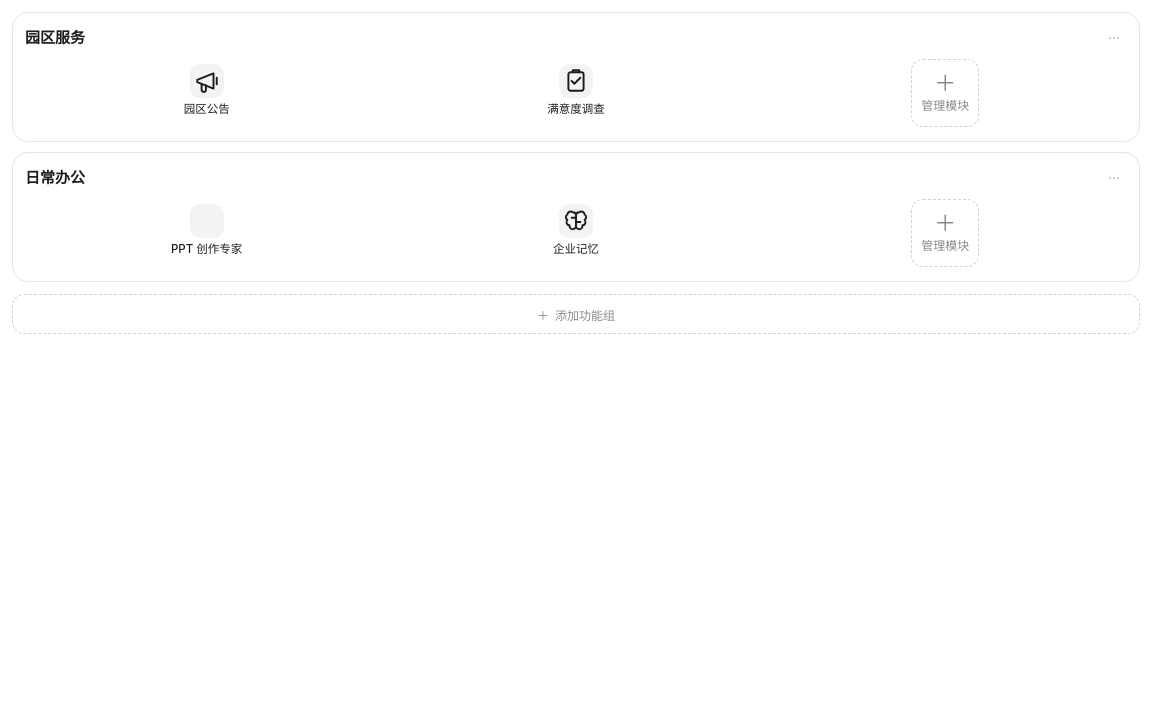
ModuleWorkspace › invalidates stale undo after another layout edit
Click the button named "功能组菜单：园区服务". click: x=1114, y=38
box: top-left (1101, 25), bottom-right (1127, 51)
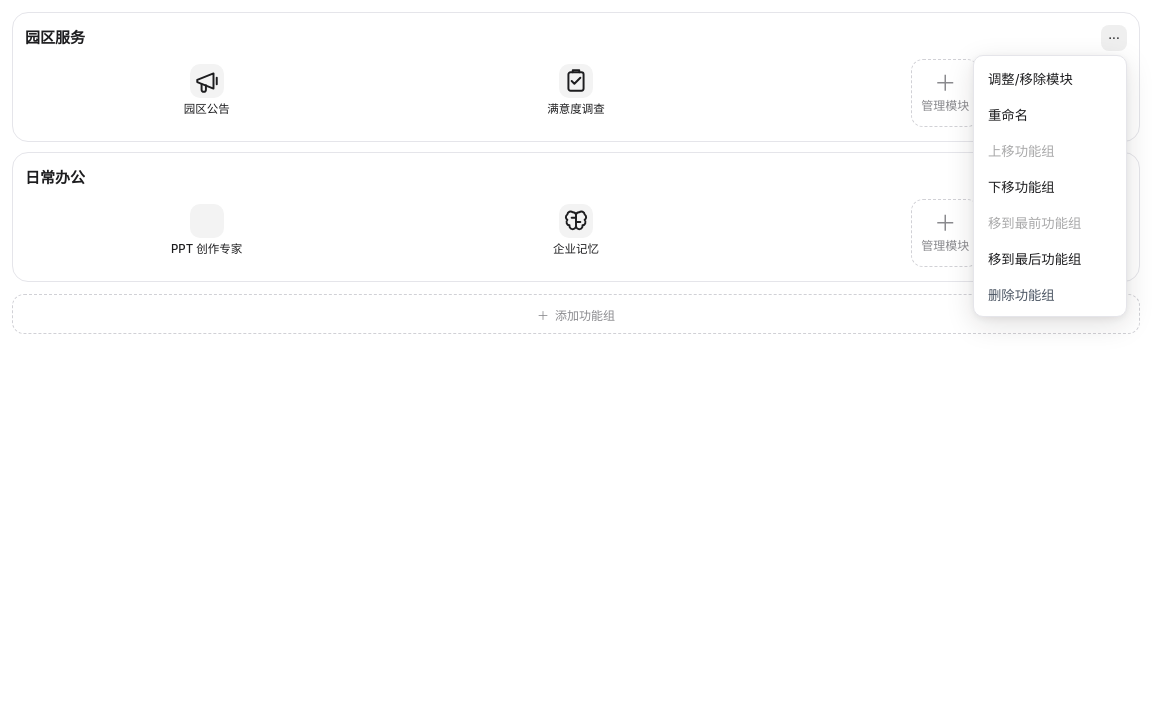
Click the menu item "调整/移除模块". click: x=1050, y=78
box: top-left (979, 61), bottom-right (1121, 95)
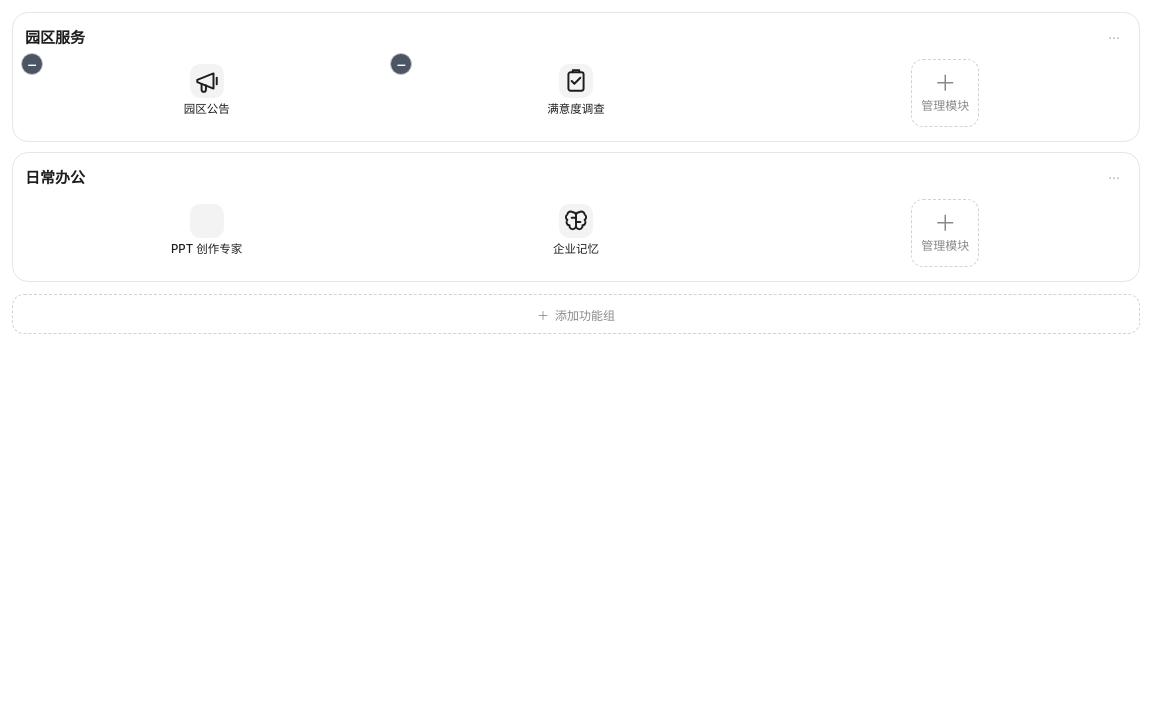
Click the button named "移除 园区公告". click: x=32, y=64
box: top-left (21, 53), bottom-right (43, 75)
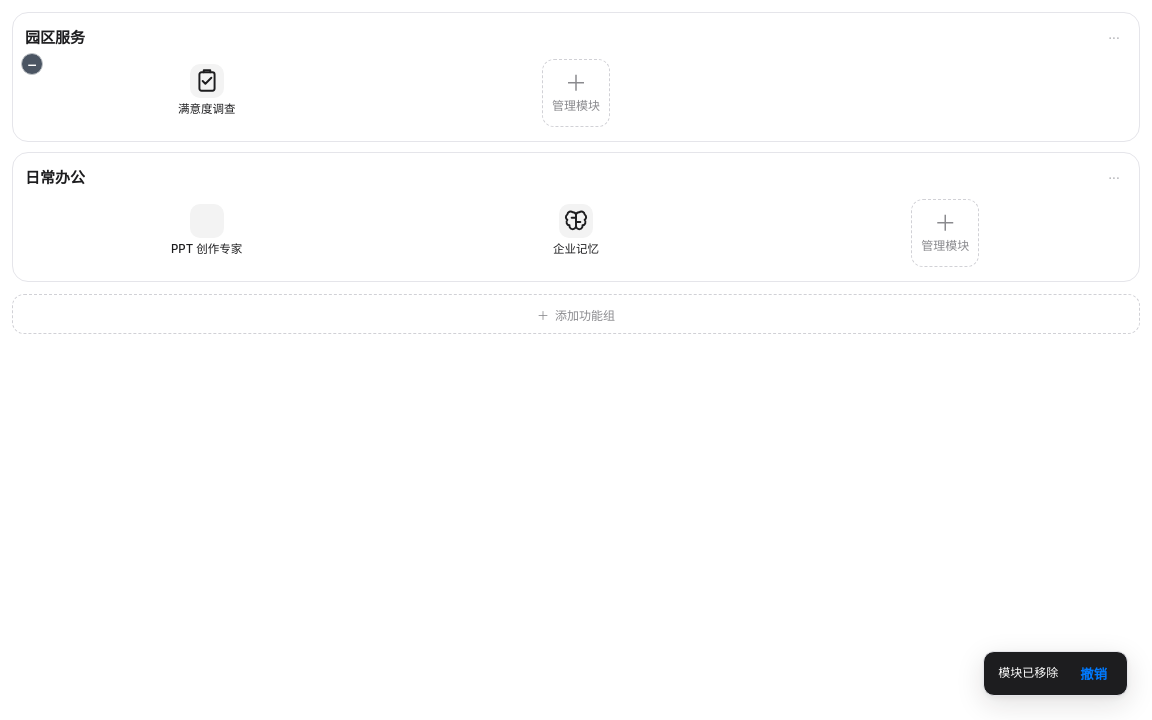
expect the button with aria-label "撤销移除" is shown: met, box top-left (1074, 663), bottom-right (1113, 684)
Click the button named "功能组菜单：园区服务". click: x=1114, y=38
box: top-left (1101, 25), bottom-right (1127, 51)
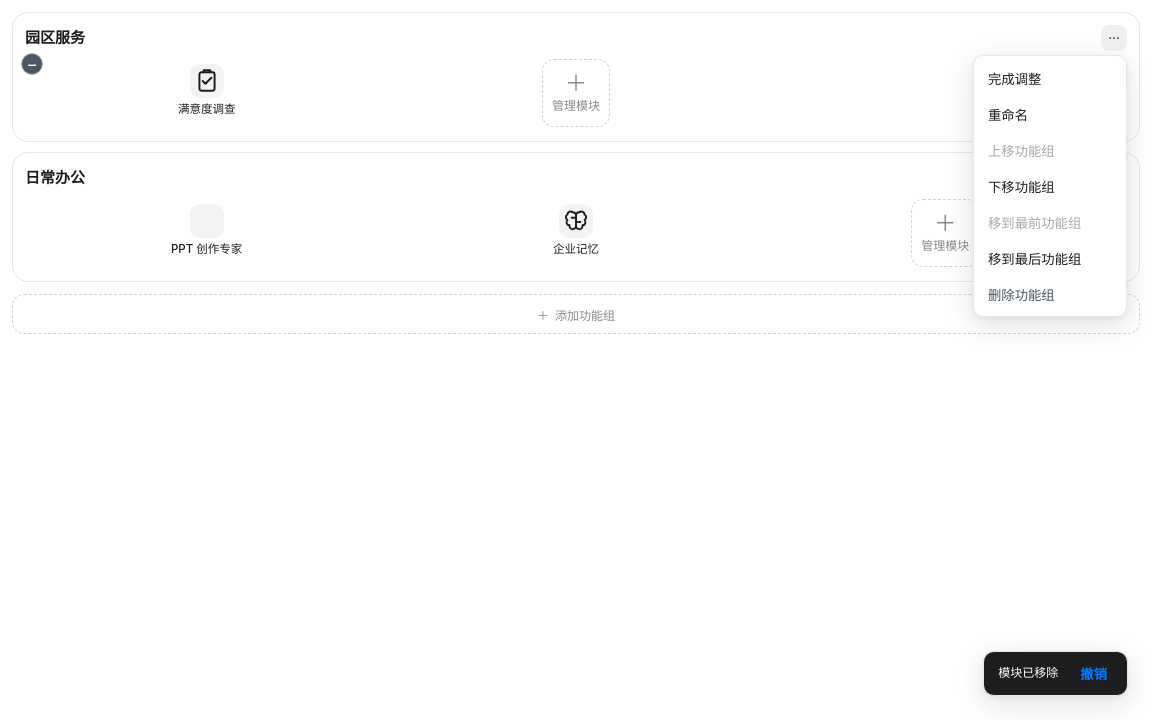
Click the menu item "重命名". click: x=1050, y=114
box: top-left (979, 97), bottom-right (1121, 131)
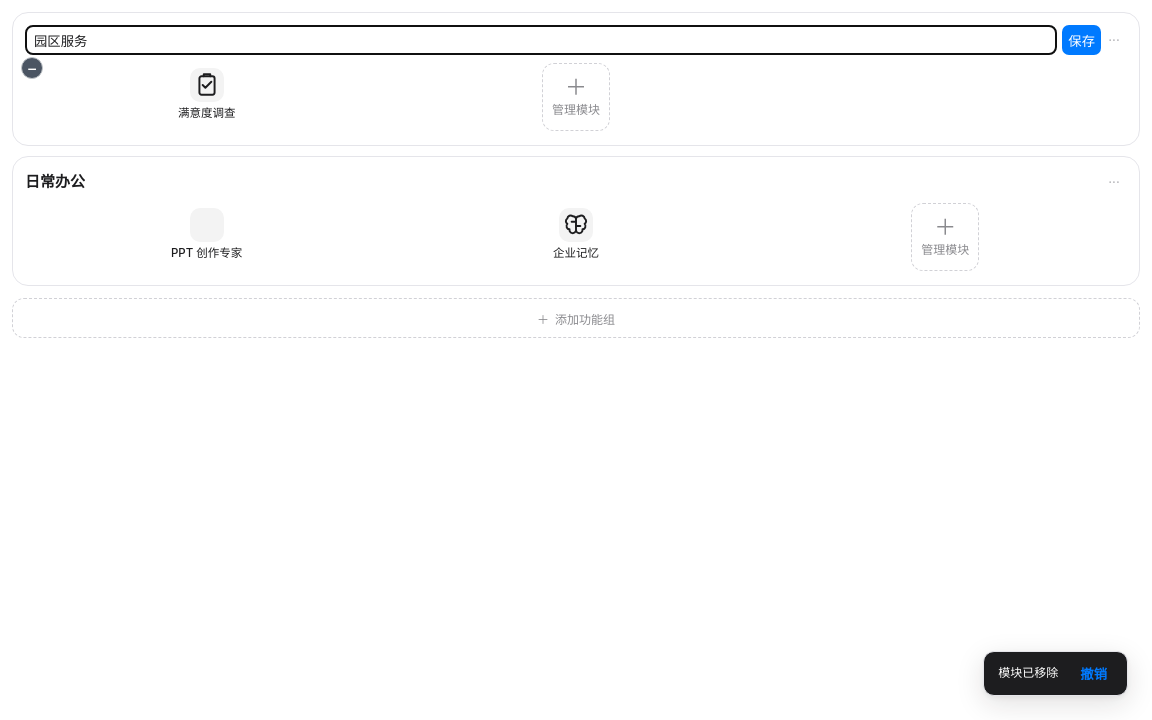
Replace the text in the field named "功能组名称" with "园区服务中心". click: x=541, y=40
box: top-left (25, 25), bottom-right (1057, 55)
Click the button with aria-label "保存名称". click: x=1082, y=40
box: top-left (1062, 25), bottom-right (1101, 55)
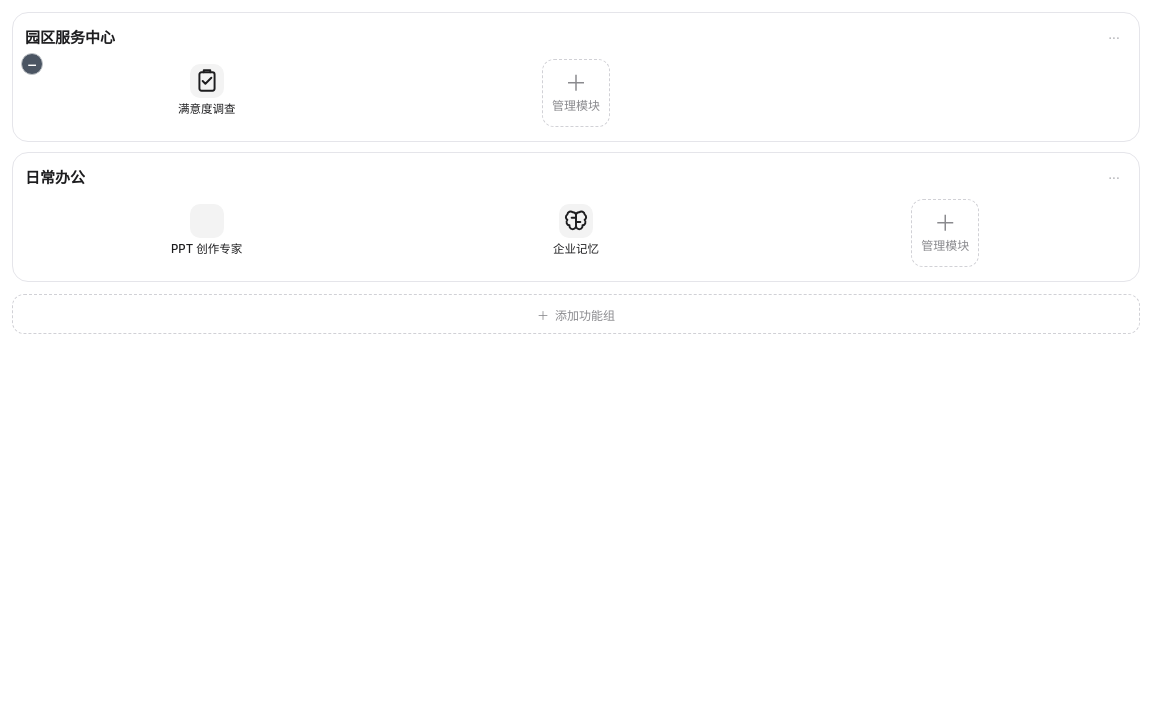
expect the button "撤销移除" is gone: met
expect the heading "园区服务中心" is shown: met, box top-left (25, 26), bottom-right (115, 50)
